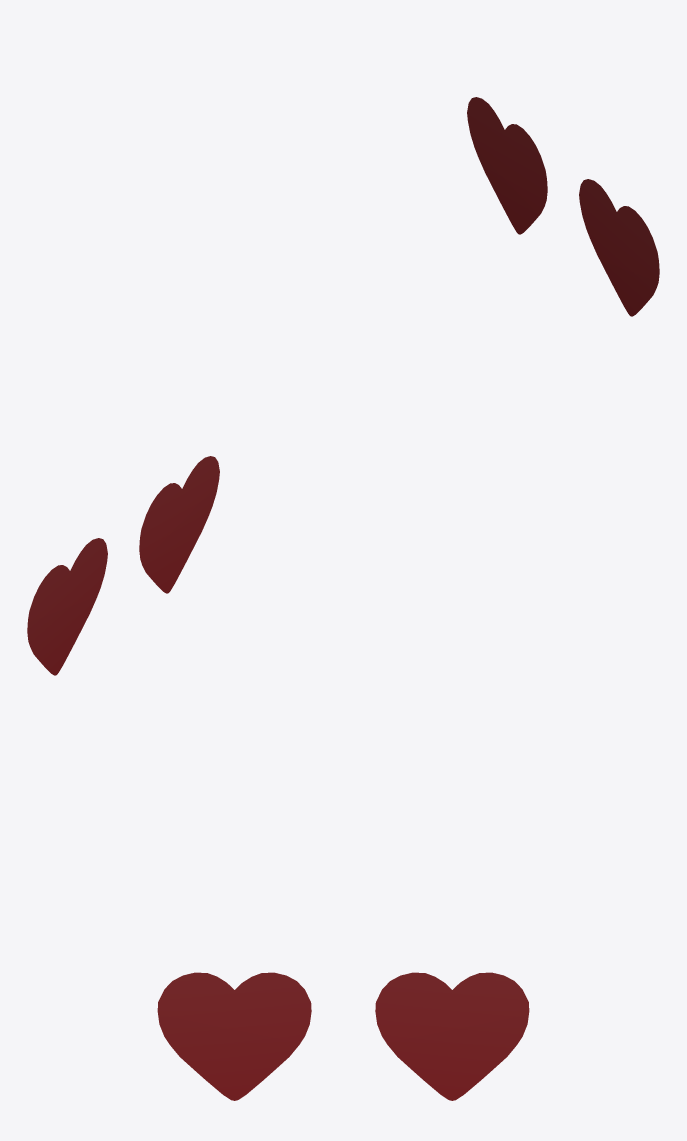
The model's file is HEART GLASSES.fbx.
3 views of the same model, one above another, from view 1: azimuth 30°, elevation 25°; view 2: azimuth 150°, elevation 25°; view 3: azimuth 270°, elevation 25° (orthographic). The views are drawn at different scales.
Visible parts, largest first — view 1: HEART_GLASSES; view 2: HEART_GLASSES; view 3: HEART_GLASSES.
Boxes of the visible parts, bbox=[...] form: HEART_GLASSES: bbox=[467, 97, 659, 316]; HEART_GLASSES: bbox=[27, 456, 219, 675]; HEART_GLASSES: bbox=[157, 972, 529, 1100].
Size of the model in its own units: 16.82 by 8.76 by 25.05.
